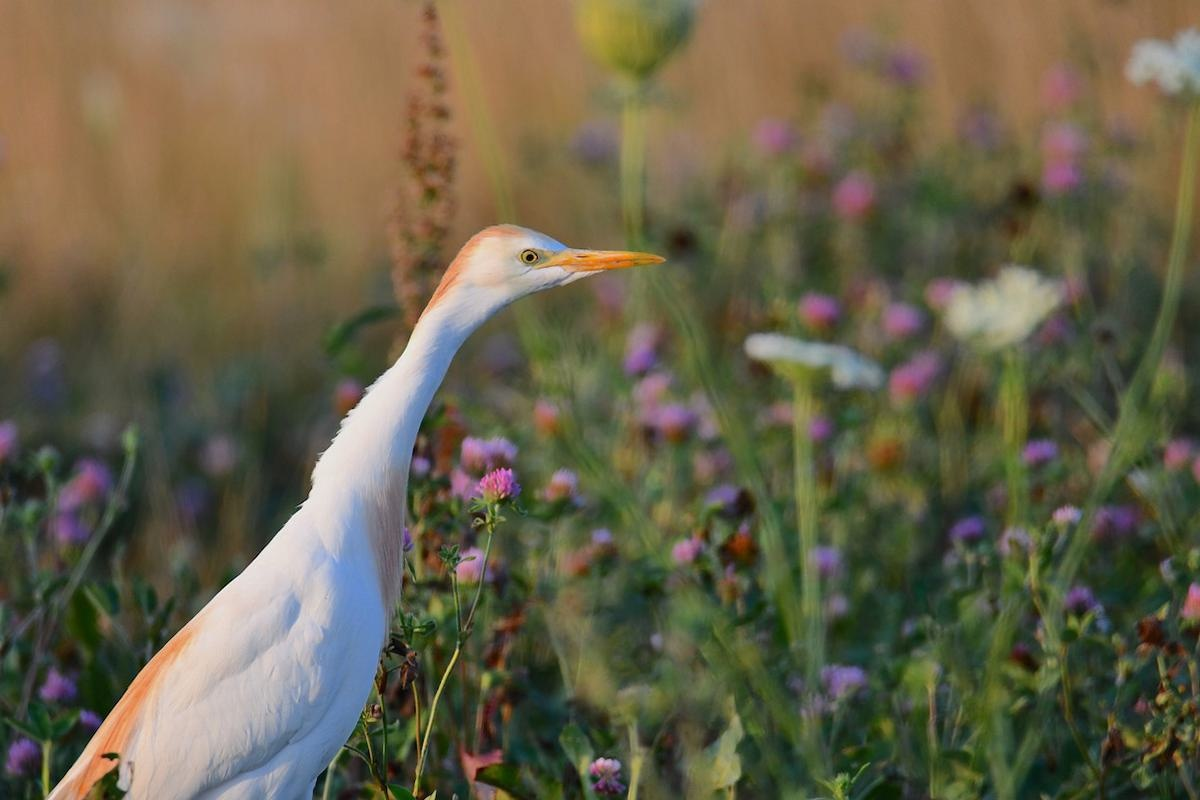egret: (116, 190, 667, 766)
